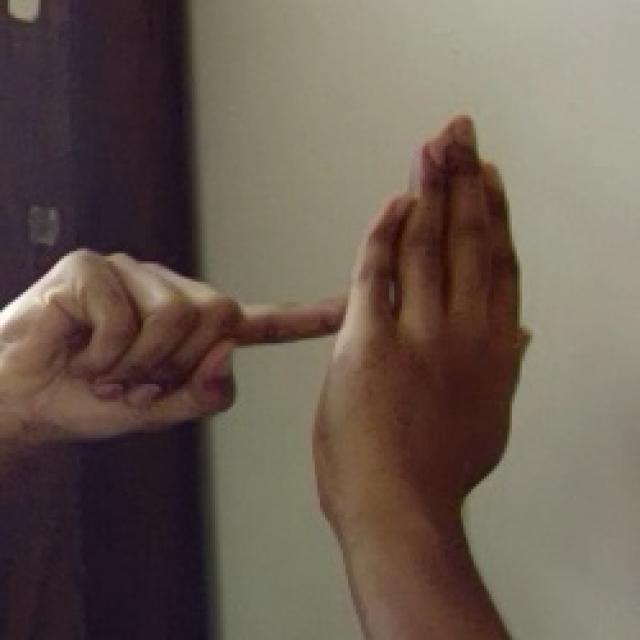Alphabet-R: (18, 109, 574, 538)
